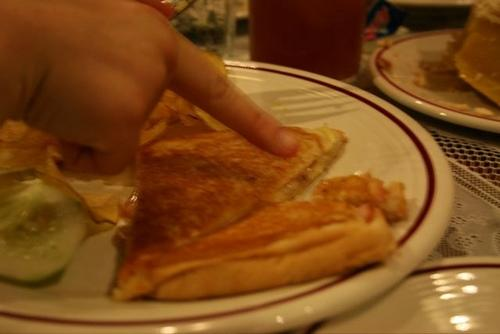cucumber: (0, 180, 89, 289)
